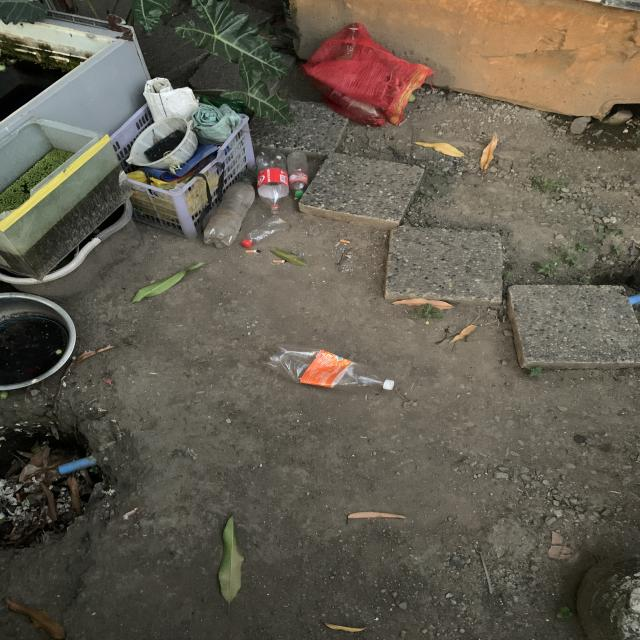Bottle: (267, 345, 395, 391)
